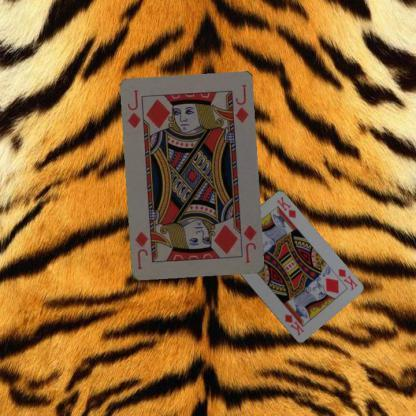Jd: (240, 222, 258, 264), (125, 87, 142, 130)
Kd: (330, 266, 359, 292)
